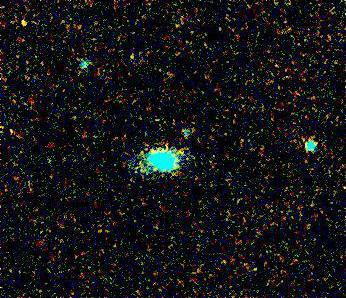star: (8, 9, 38, 39)
